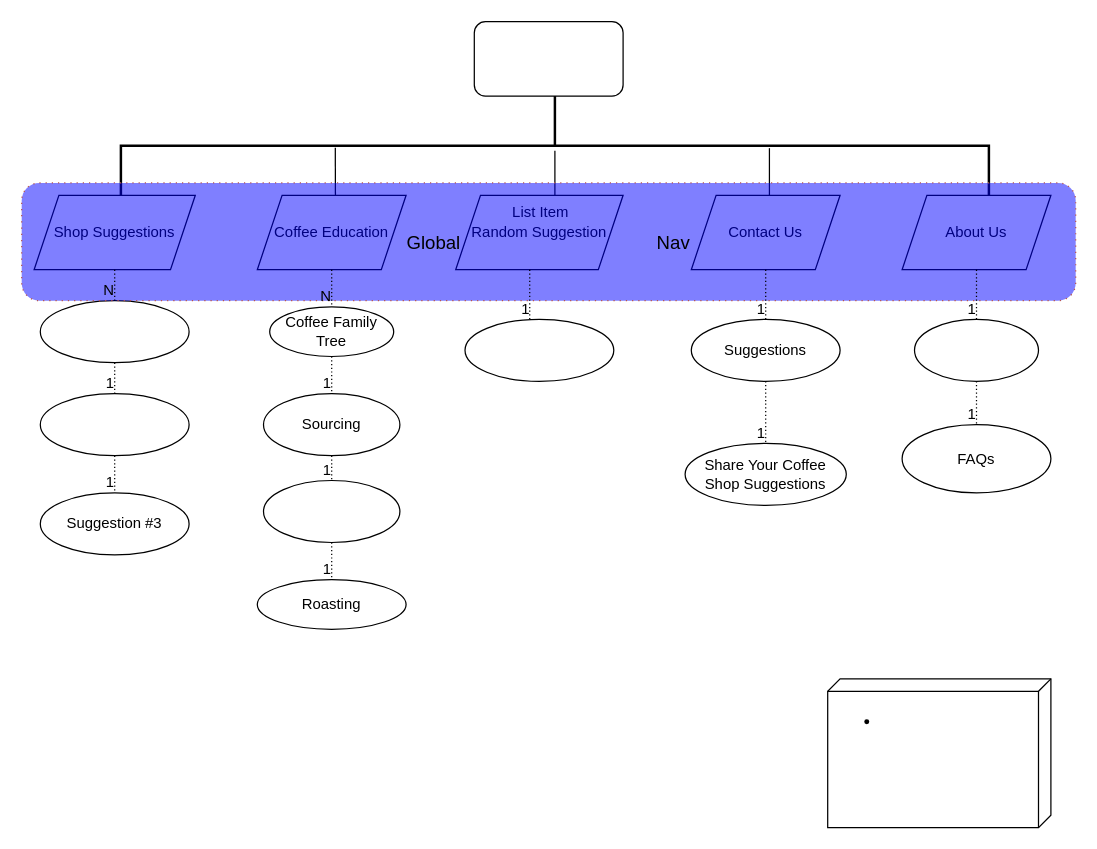
The diagram is 1097 pixels wide and 849 high, and some of its shapes have lost their labels. Each missing label, with the centre of its shape:
Home: [548,58]
Mission Statement: [975,349]
Processing: [331,510]
Random Shop Suggestion: [539,349]
Suggestion #1: [114,331]
Suggestion #2: [114,424]
